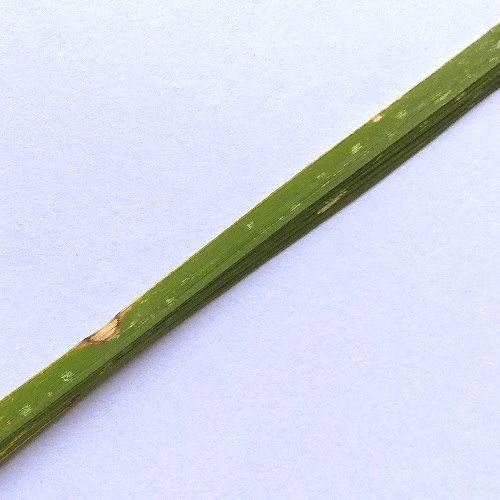Busuk Leher: (74, 310, 130, 349), (305, 189, 350, 219), (363, 100, 392, 132)
